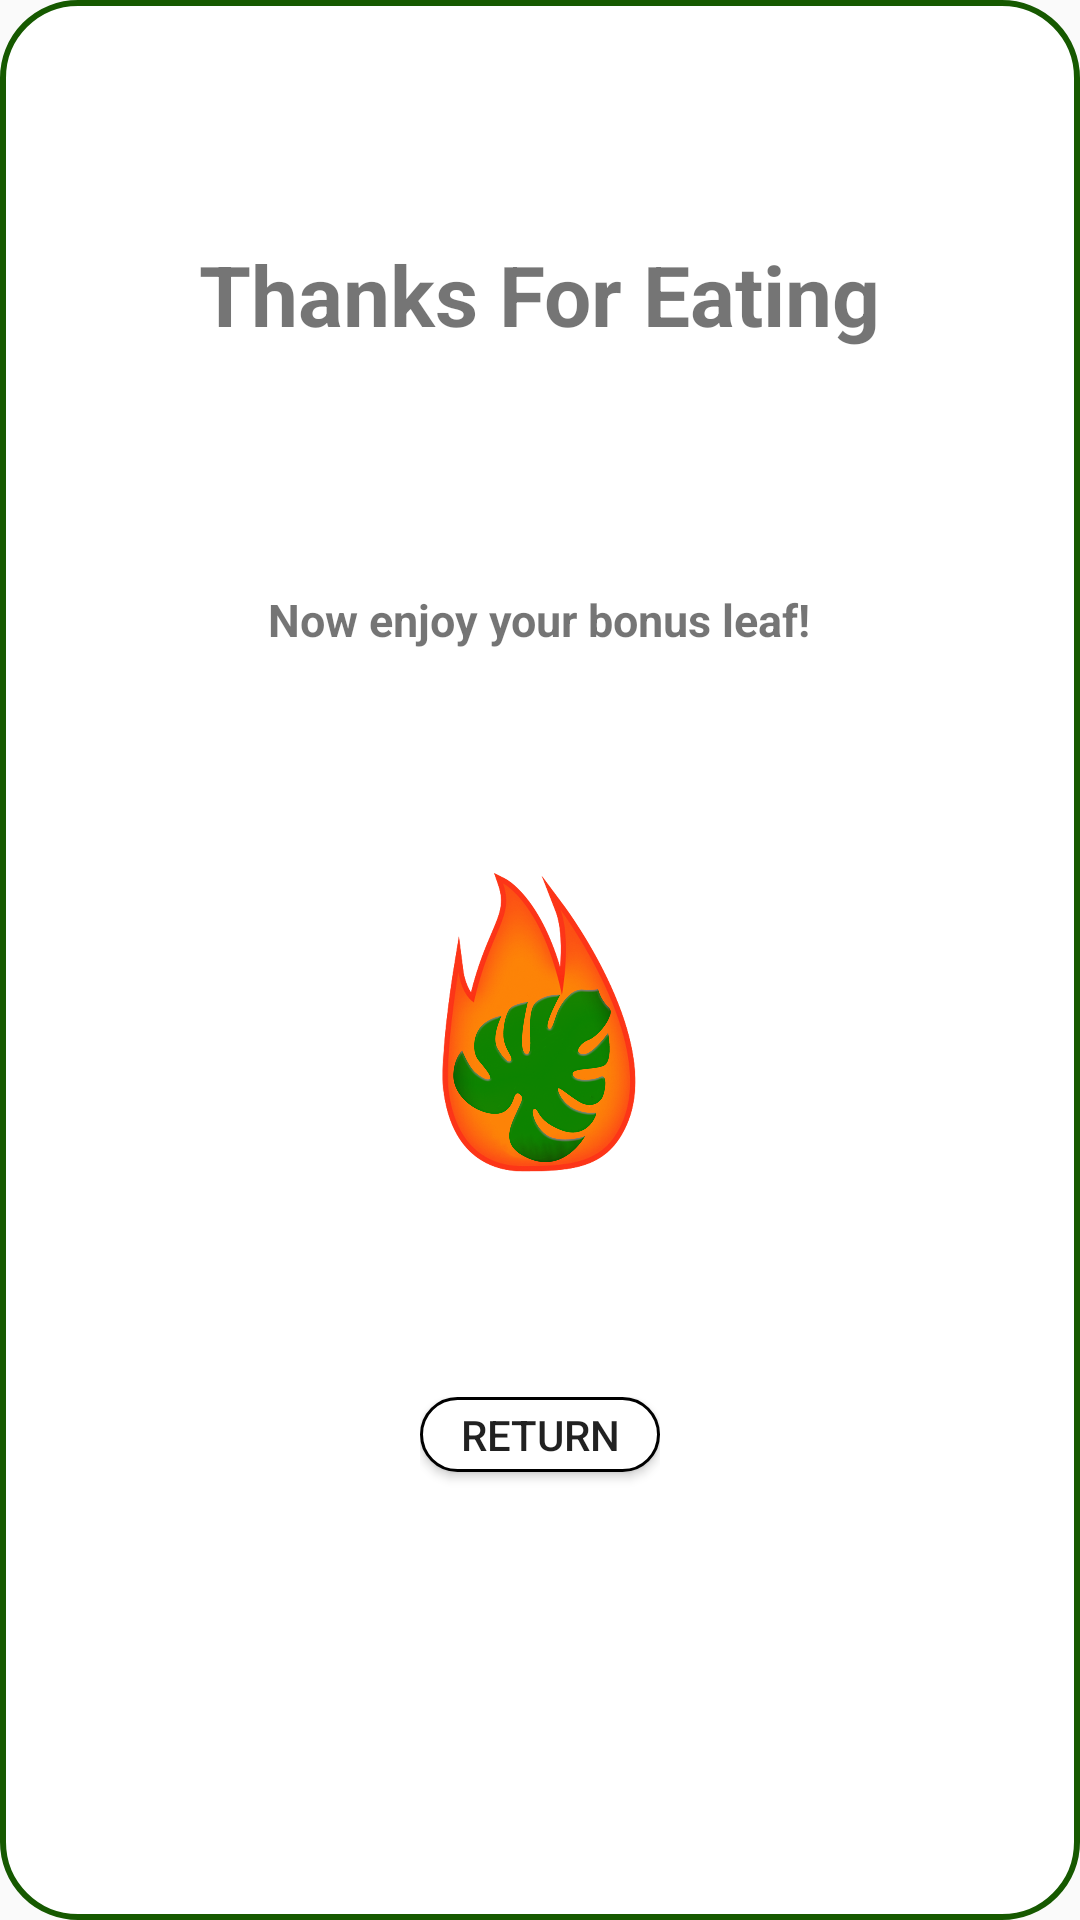

Point at icon controls on the screen. Image size 1080px x 1920px, points as point (x, y).
leaf streak: point (539, 1022)
